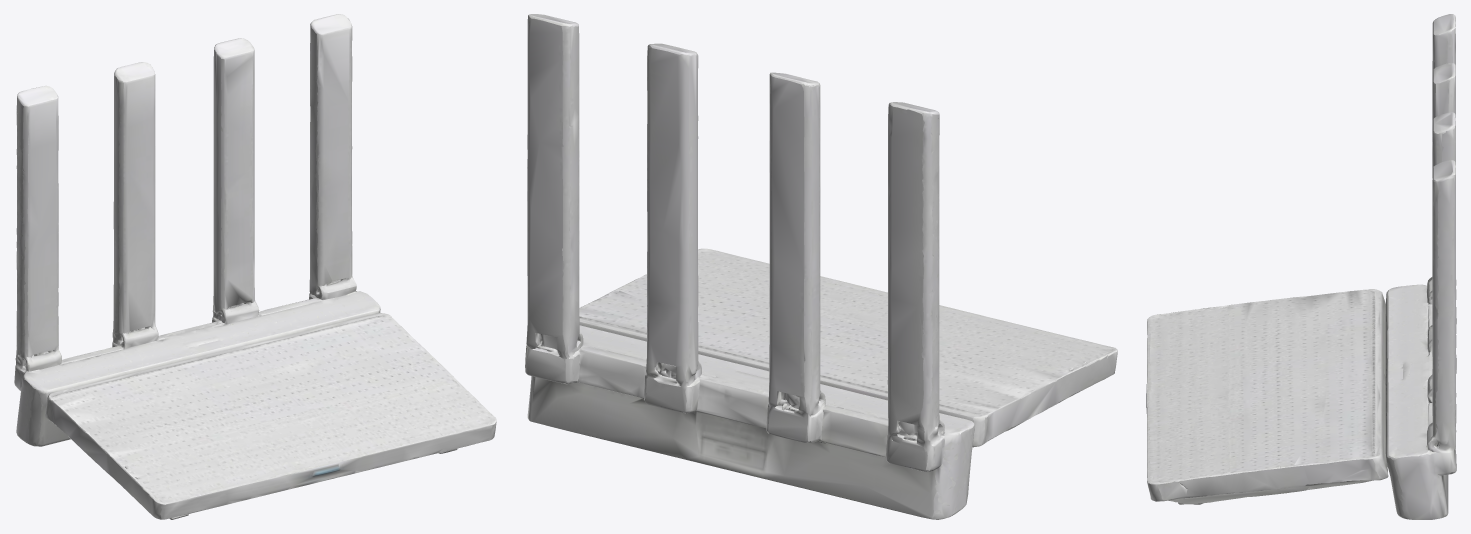
Rendered from xiaomi-ax3000t.glb.
3 renders of one model, left to right at view 1: azimuth 30°, elevation 25°; view 2: azimuth 150°, elevation 25°; view 3: azimuth 270°, elevation 25°, orthographic. The views are drawn at different scales.
Parts seen in each view (by area): view 1: world; view 2: world; view 3: world.
Part boxes in pixels (x1=…): world: x1=14, y1=14, x2=496, y2=519; world: x1=525, y1=14, x2=1117, y2=519; world: x1=1146, y1=14, x2=1456, y2=519.
Size of the model in its own units: 0.225 by 0.2089 by 0.1719.
1 material, 1 textured.
